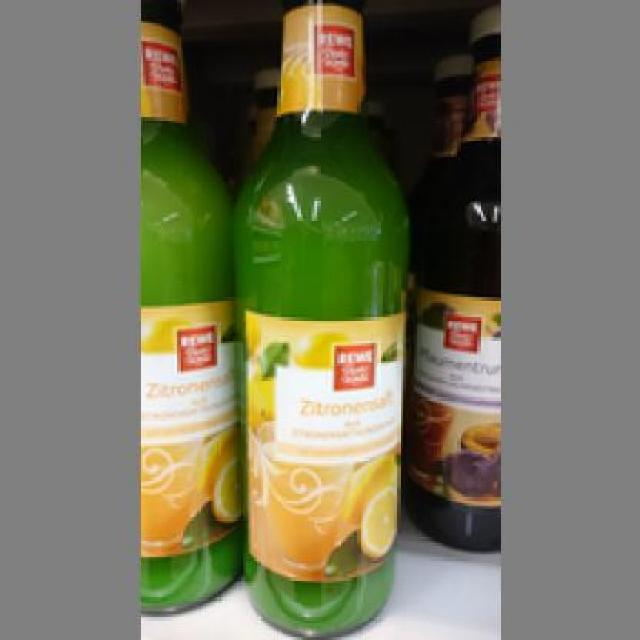Juice: (232, 2, 408, 635), (137, 6, 243, 614), (406, 8, 494, 546)
